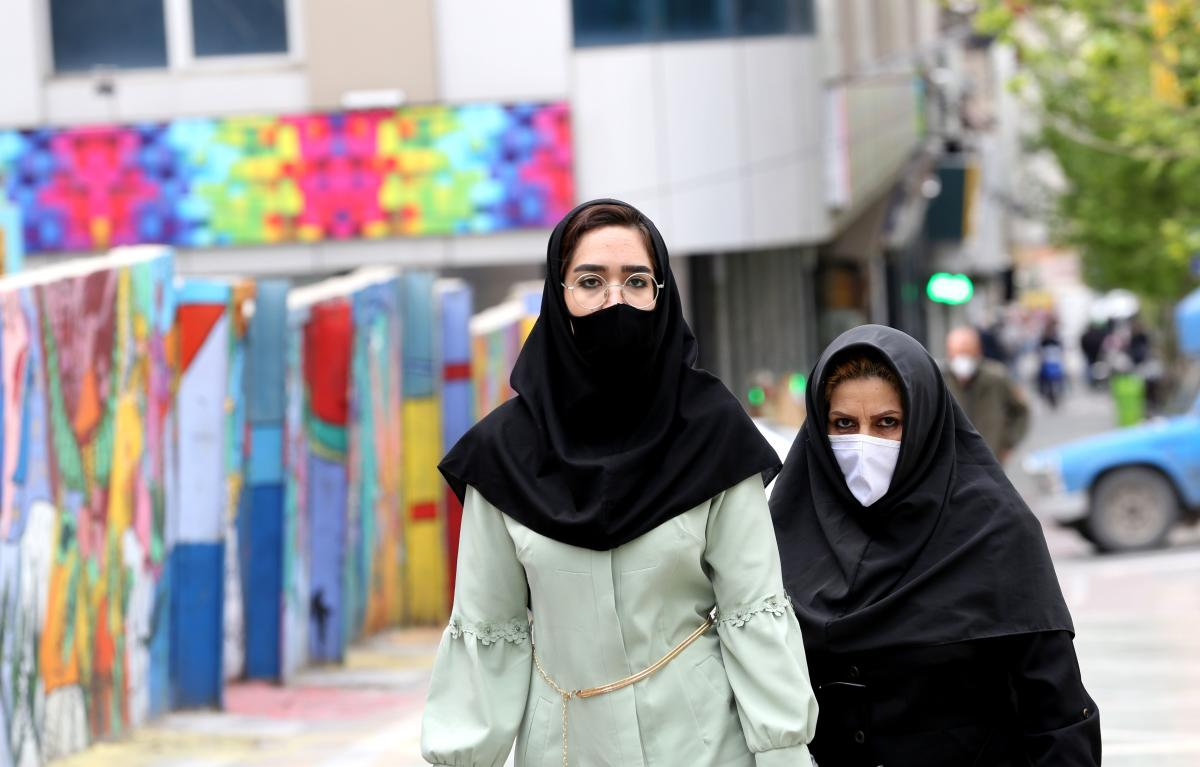Person: (445, 206, 763, 763), (785, 310, 1063, 742)
